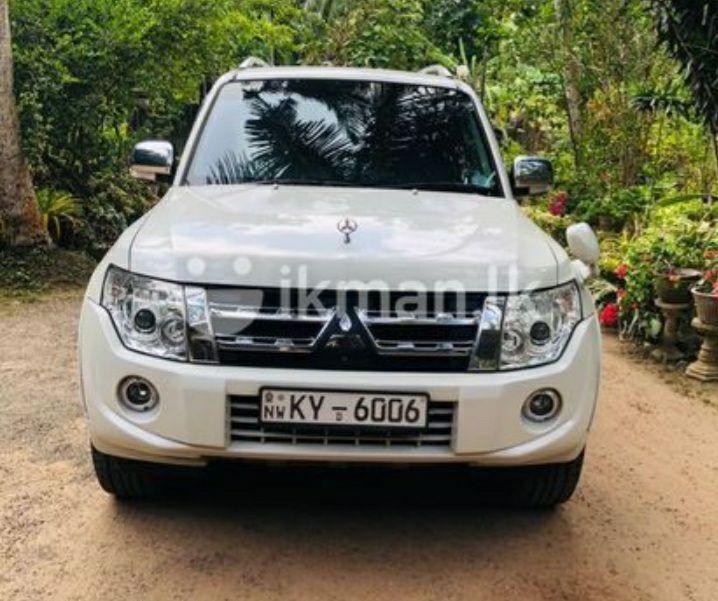license-plate: (258, 386, 425, 433)
